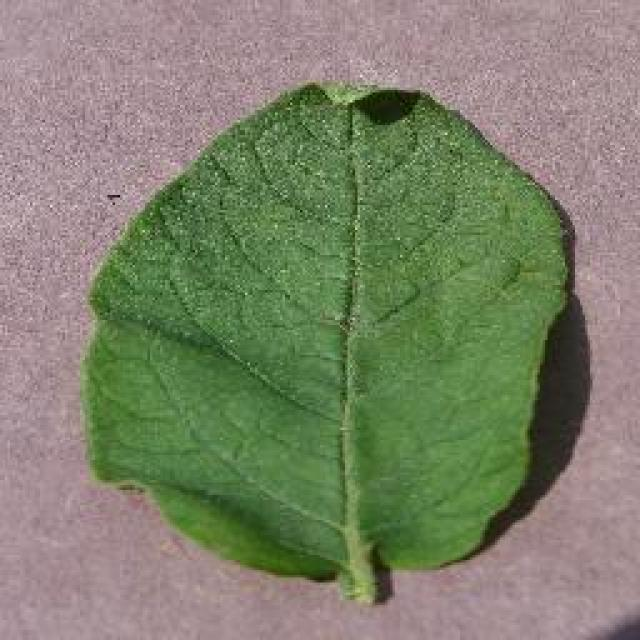Potato: (78, 78, 572, 602)
